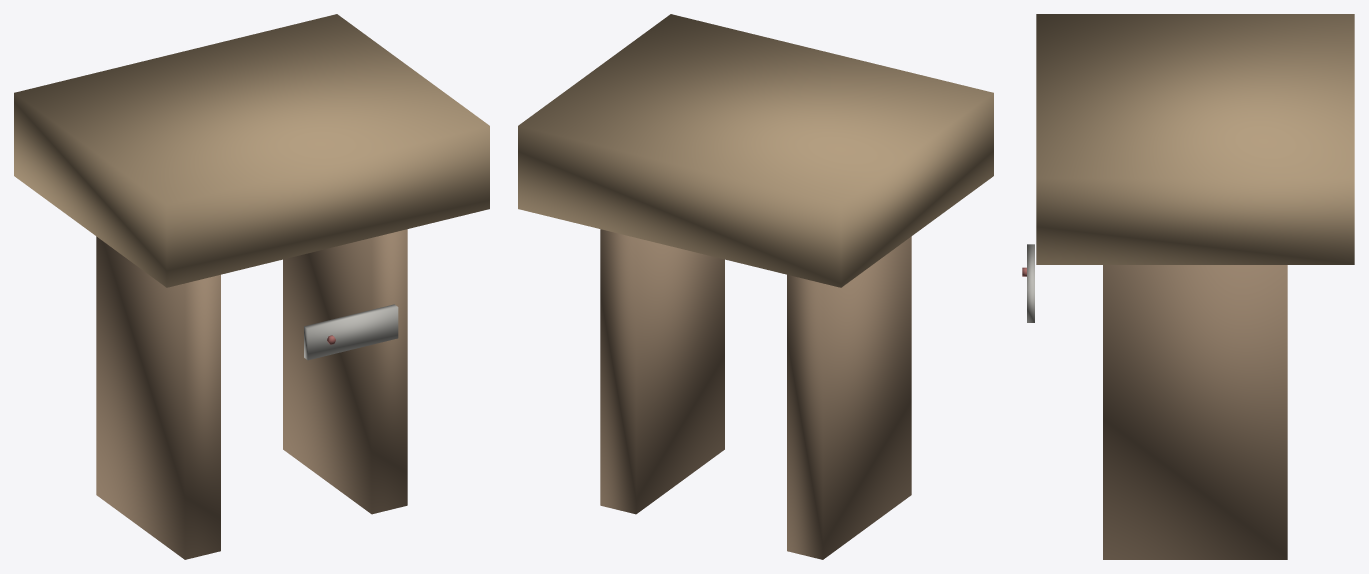
The model's file is butcher_block__compact.glb.
The picture shows the model from 3 angles, left to right: view 1: azimuth 30°, elevation 25°; view 2: azimuth 150°, elevation 25°; view 3: azimuth 270°, elevation 25°; orthographic projection. The views are drawn at different scales.
Visible parts, largest first — view 1: world; view 2: world; view 3: world.
Boxes of the visible parts, bbox=[...] form: world: bbox=[14, 14, 489, 559]; world: bbox=[518, 14, 993, 559]; world: bbox=[1022, 14, 1354, 559].
Bounding box in the file's own units: 0.756 × 0.8742 × 0.6459.
